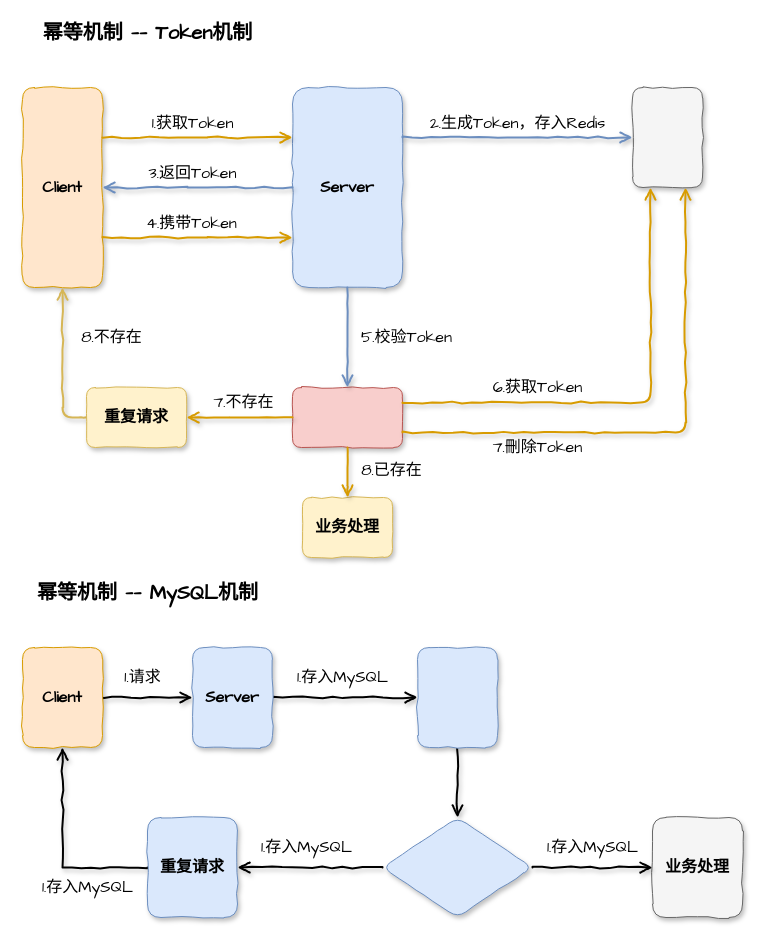
The diagram is 766 pixels wide and 942 high, and some of its shapes have lost their labels. The shapes that lost their labels are listed below. From the top down, each one's centre as x and y in pixels, then its label:
point 668,138: Redis
point 348,418: Token 是否存在
point 458,698: MySQL
point 458,868: 是否插入成功
